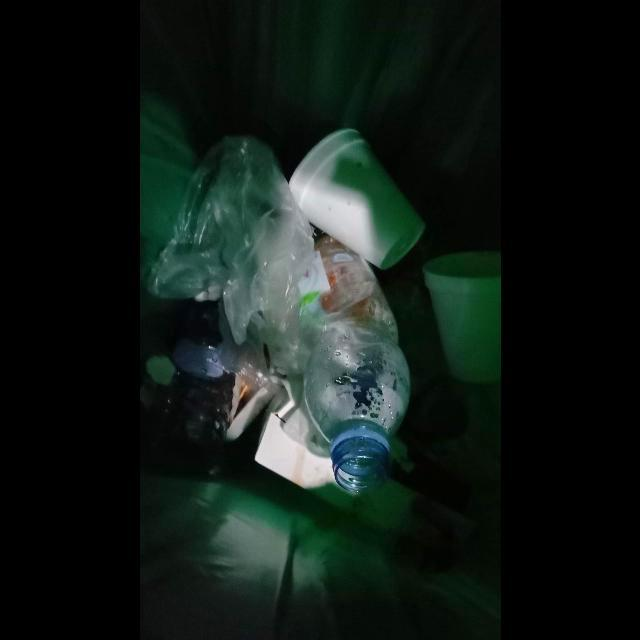plastic_bag: (147, 136, 329, 328)
plastic_bottle: (299, 234, 411, 497)
